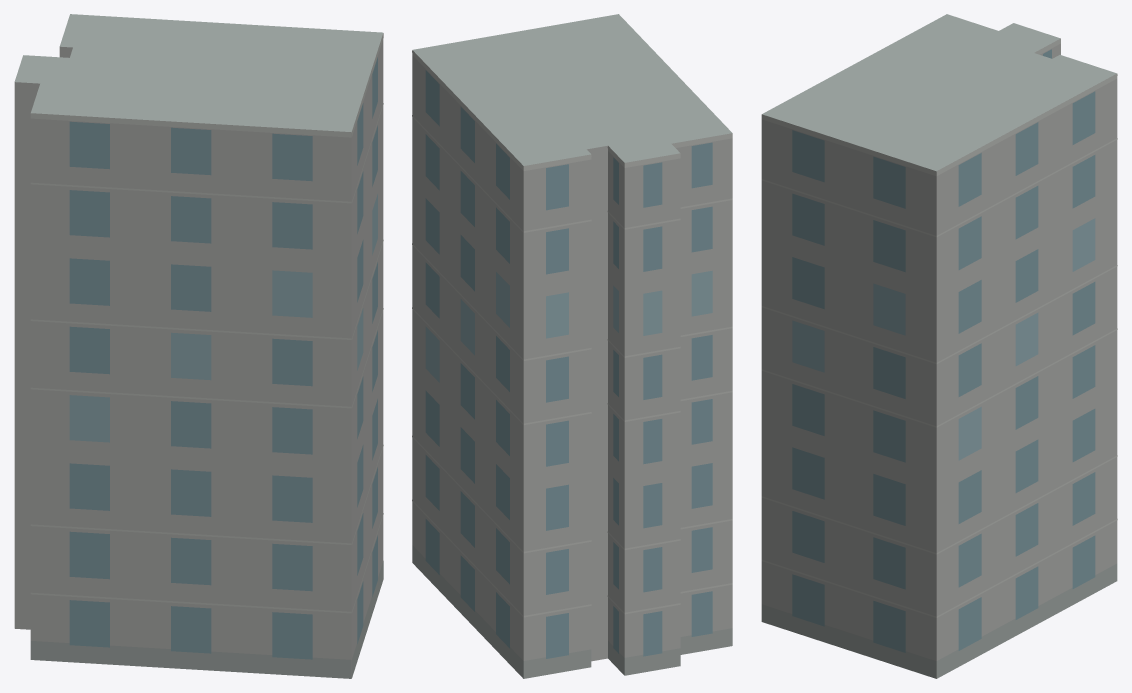
File: survey-upis-32649158.glb
The picture shows the model from 3 angles, left to right: view 1: azimuth 30°, elevation 25°; view 2: azimuth 150°, elevation 25°; view 3: azimuth 270°, elevation 25°; orthographic projection. The views are drawn at different scales.
Parts seen in each view (by area): view 1: survey-upis-32649158.tmp; view 2: survey-upis-32649158.tmp; view 3: survey-upis-32649158.tmp.
Part boxes in pixels (x1,y1,x2,y2): survey-upis-32649158.tmp: (14,14,383,678); survey-upis-32649158.tmp: (412,14,732,678); survey-upis-32649158.tmp: (761,14,1117,678).
Size of the model in its own units: 16.24 by 24.4 by 15.51.
